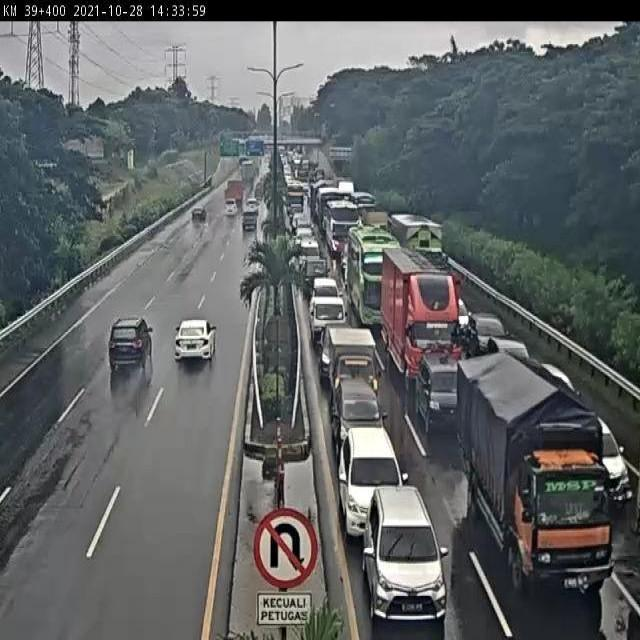big bus: (348, 228, 401, 329), (322, 202, 362, 258)
big truck: (457, 358, 610, 594), (380, 247, 459, 393)
car: (360, 489, 449, 623), (334, 429, 409, 539), (567, 406, 631, 506), (416, 350, 472, 438), (322, 328, 384, 405), (327, 382, 389, 458), (167, 316, 219, 368), (107, 315, 154, 372), (309, 296, 350, 352), (466, 313, 508, 360), (487, 337, 530, 375), (298, 258, 330, 298), (447, 293, 470, 335), (296, 238, 320, 266), (312, 278, 340, 302), (242, 212, 258, 237), (190, 205, 207, 227), (294, 222, 312, 242), (223, 199, 238, 220)
